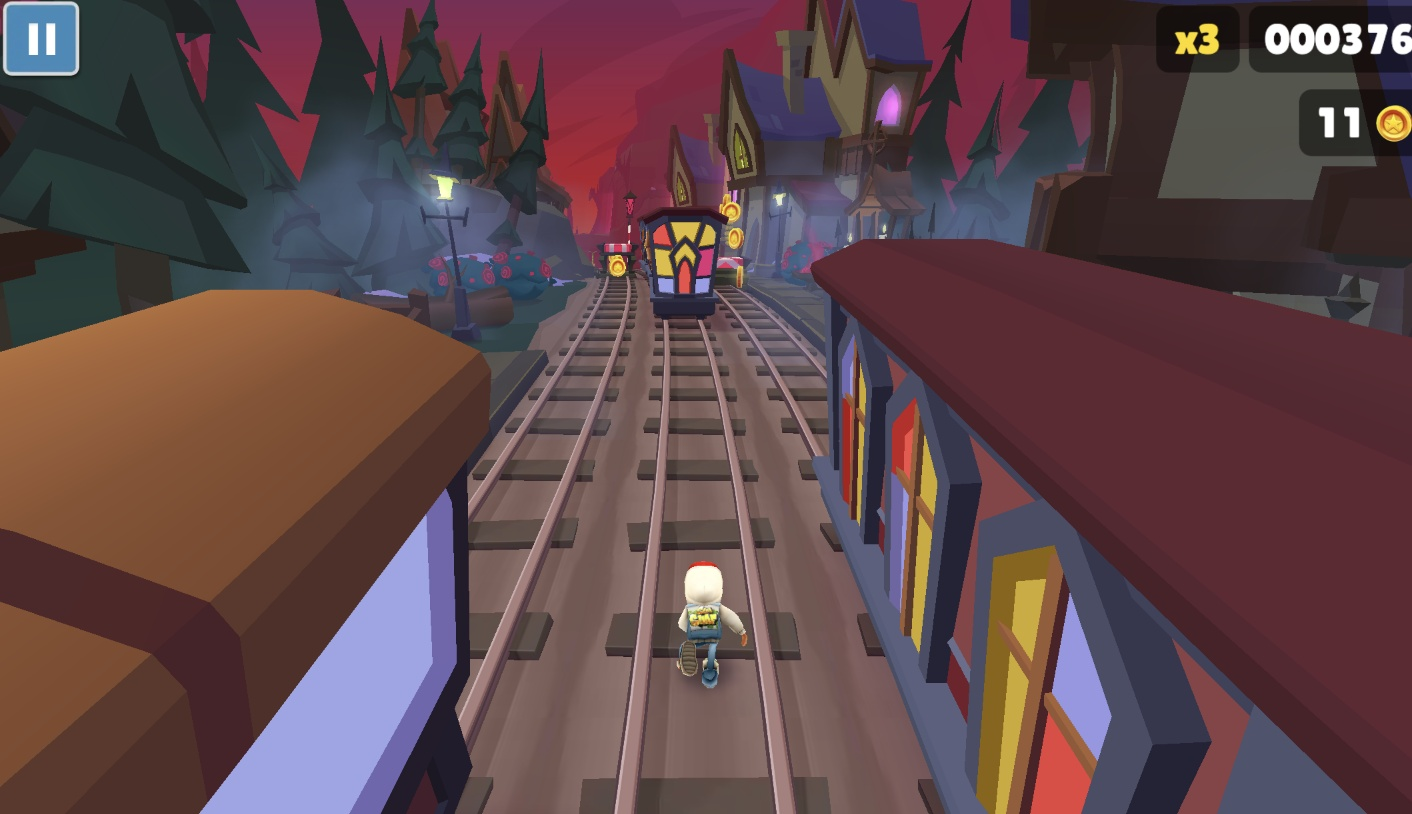ground_barrier: (600, 242, 636, 281), (714, 257, 745, 292)
train: (817, 242, 1412, 814), (0, 315, 455, 814), (635, 207, 730, 323)
